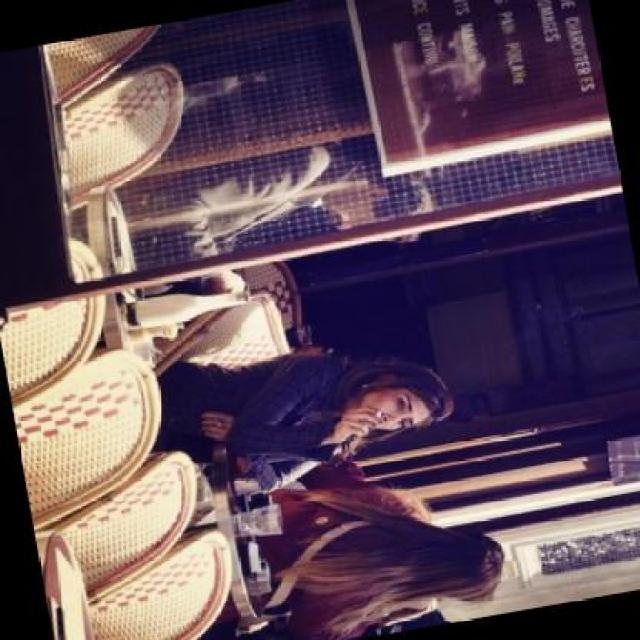smoke: (372, 408, 382, 419)
